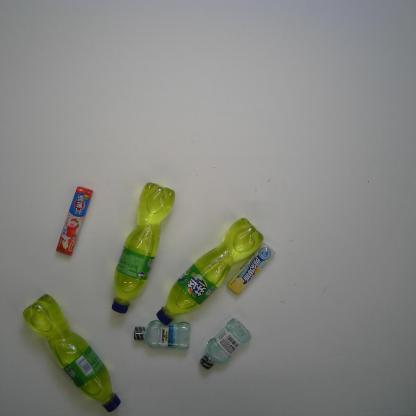Candy: (227, 242, 275, 296), (56, 186, 92, 255)
Drink: (155, 217, 264, 327), (23, 294, 121, 412), (111, 182, 175, 315)
Personal Hygiene: (199, 318, 252, 371), (133, 320, 191, 350)
